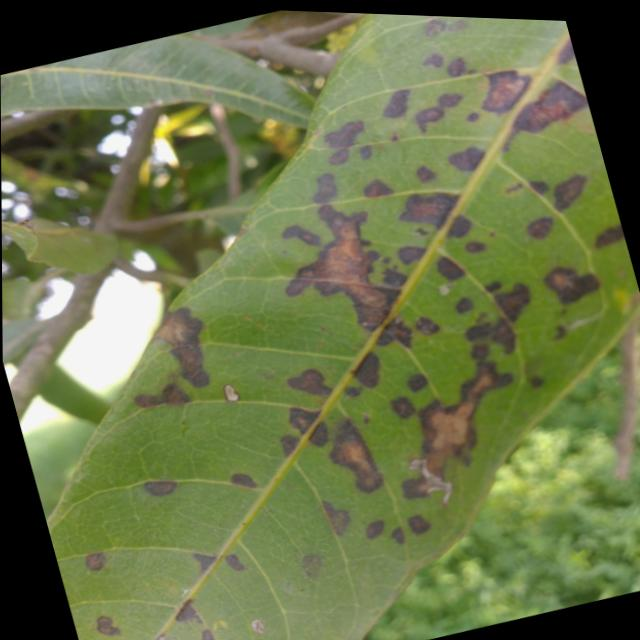Anthracnose: (319, 206, 401, 337), (509, 75, 592, 140), (125, 379, 202, 419), (407, 183, 460, 227), (445, 145, 491, 175)
